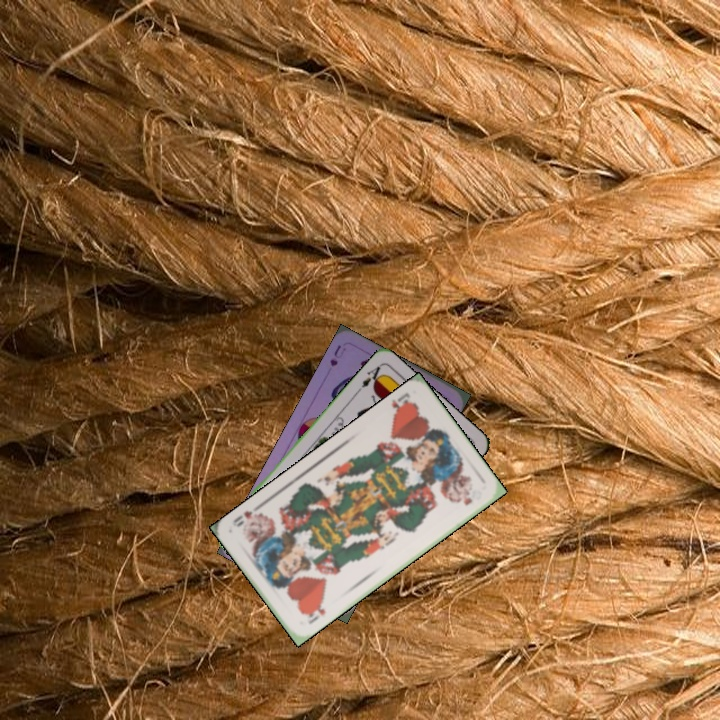EA: (357, 360, 386, 390)
HO: (387, 389, 417, 419), (302, 597, 328, 627)
SU: (326, 341, 349, 369)
